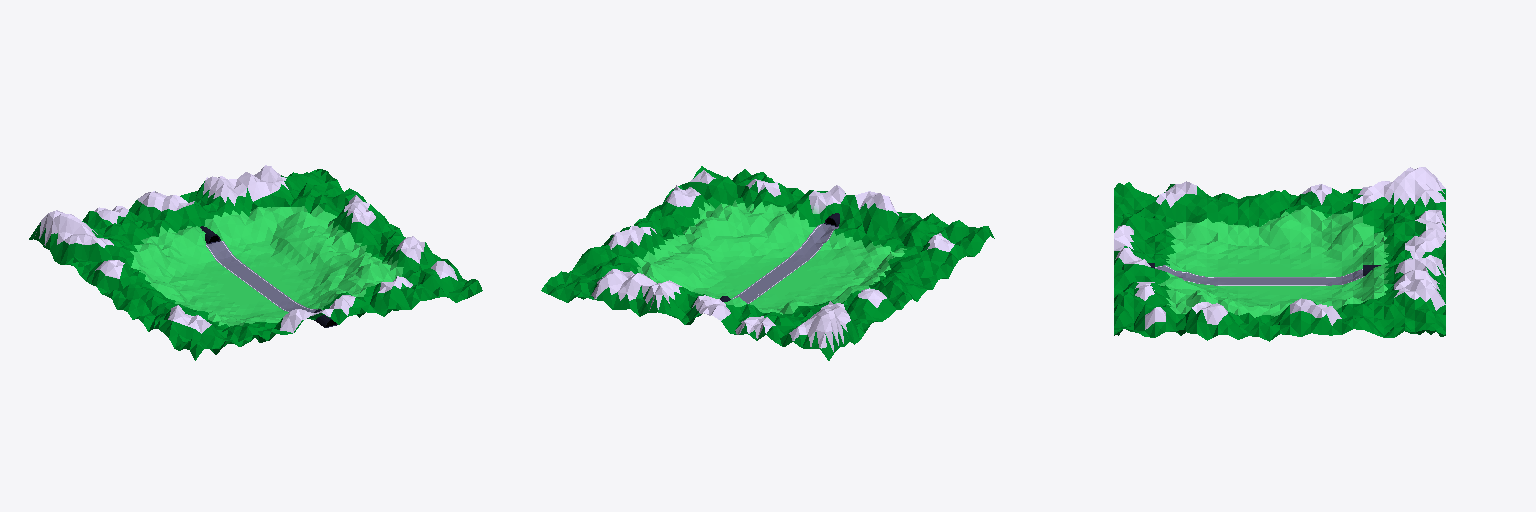
3 views of the same model, side by side, from view 1: azimuth 30°, elevation 25°; view 2: azimuth 150°, elevation 25°; view 3: azimuth 270°, elevation 25° (orthographic).
Parts seen in each view (by area): view 1: Plane.001_Plane; view 2: Plane.001_Plane; view 3: Plane.001_Plane.
Boxes of the visible parts, box(x1,y1,x2,y2) form: Plane.001_Plane: box(29, 165, 482, 360); Plane.001_Plane: box(541, 166, 994, 360); Plane.001_Plane: box(1114, 167, 1445, 341).
Size of the model in its own units: 1024 by 175 by 1024.
11 materials, 1 textured.